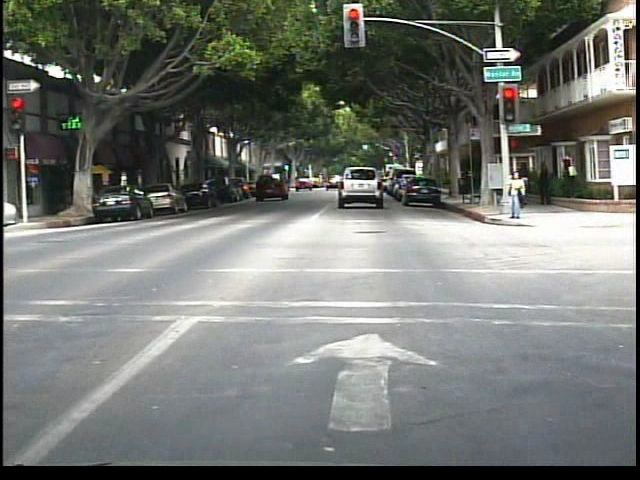person: (501, 168, 527, 222), (532, 157, 553, 211), (557, 149, 579, 198), (516, 156, 533, 206)
